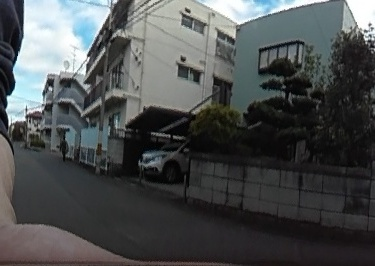person: (59, 134, 69, 160)
